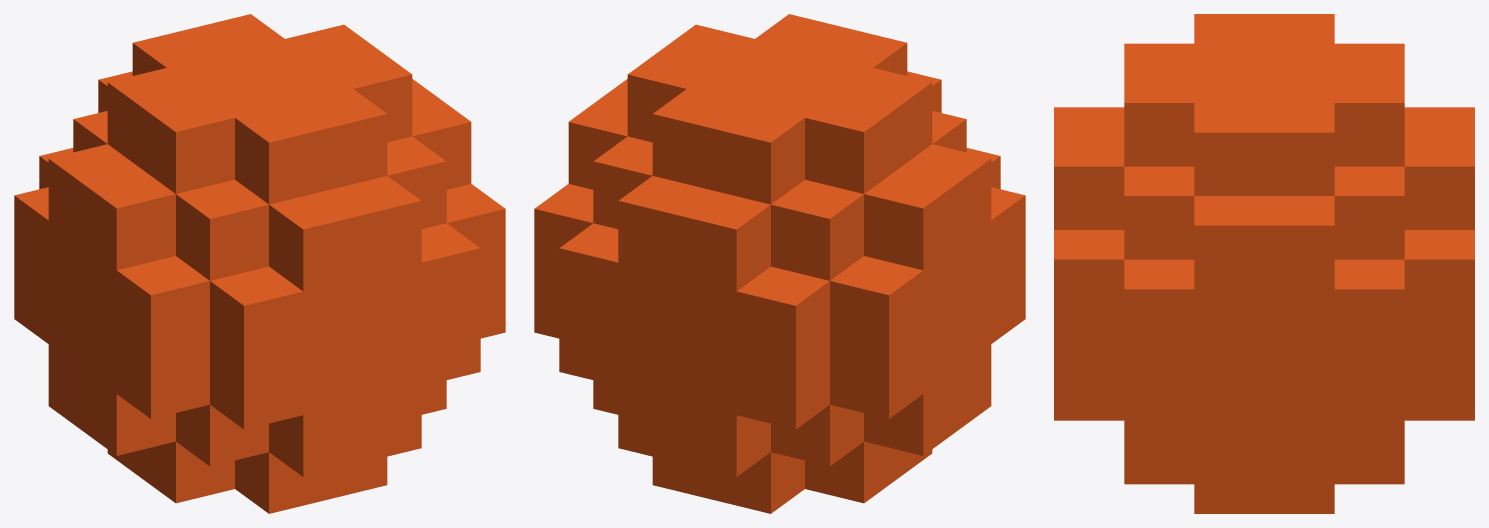
File: Hathor-0.obj
3 renders of one model, left to right at view 1: azimuth 30°, elevation 25°; view 2: azimuth 150°, elevation 25°; view 3: azimuth 270°, elevation 25°, orthographic. The views are drawn at different scales.
Bounding box in the file's own units: 0.6 × 0.6 × 0.6.
1 material, 1 textured.
